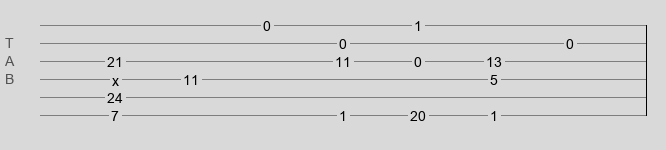0: (263, 18, 271, 28), (339, 36, 347, 46), (414, 54, 422, 64), (566, 36, 574, 46)
1: (339, 108, 347, 118), (414, 18, 422, 28), (490, 108, 498, 118)
11: (183, 72, 199, 82), (335, 54, 351, 64)
13: (486, 54, 502, 64)
20: (410, 108, 426, 118)
21: (107, 54, 123, 64)
24: (107, 90, 123, 100)
5: (490, 72, 498, 82)
7: (111, 108, 119, 118)
x: (112, 73, 119, 81)
